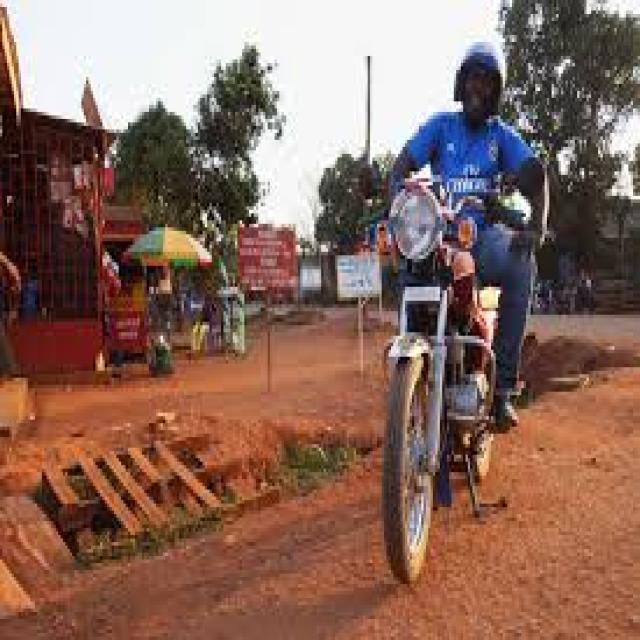bodaboda: (274, 136, 603, 604)
